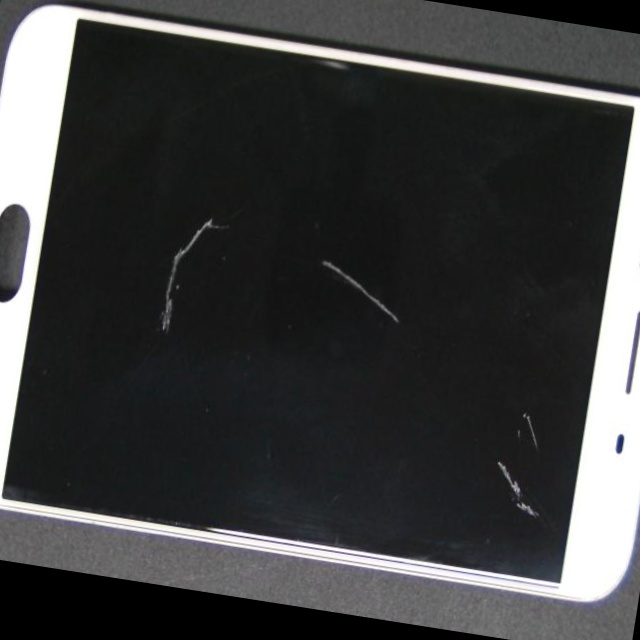scratch: (233, 185, 640, 624), (222, 170, 621, 475), (104, 67, 369, 327)
